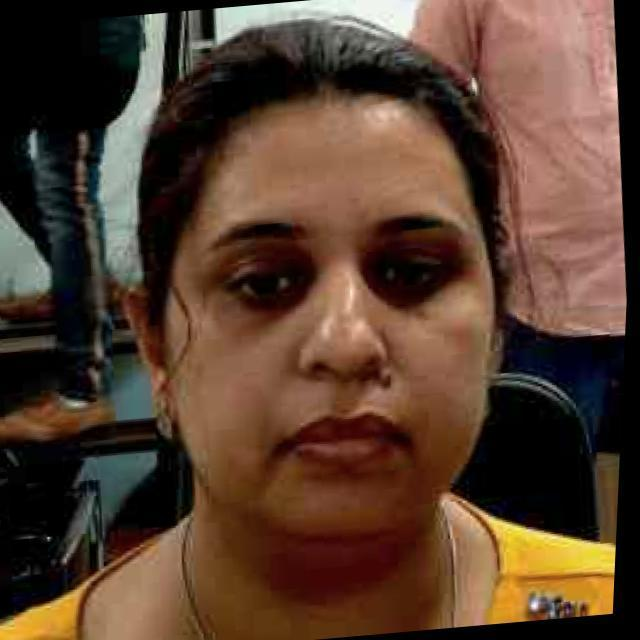puffy_eyes: (225, 275, 317, 322), (367, 254, 445, 307)
